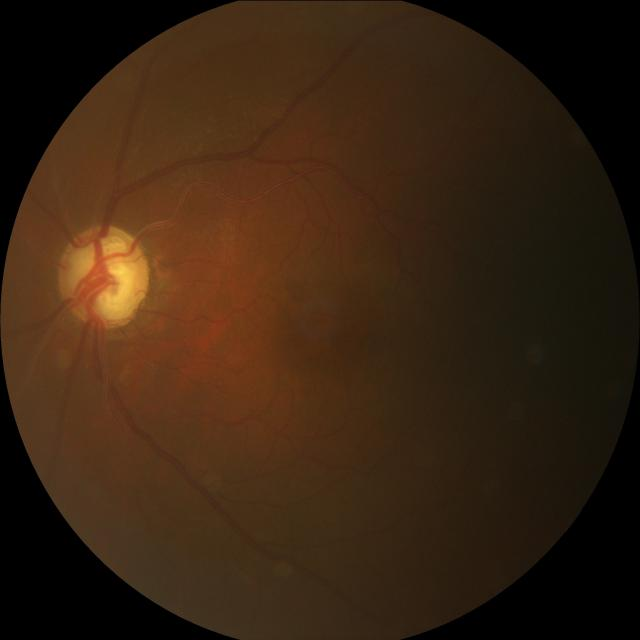OC: (68, 234, 138, 314)
OD: (56, 222, 149, 328)
